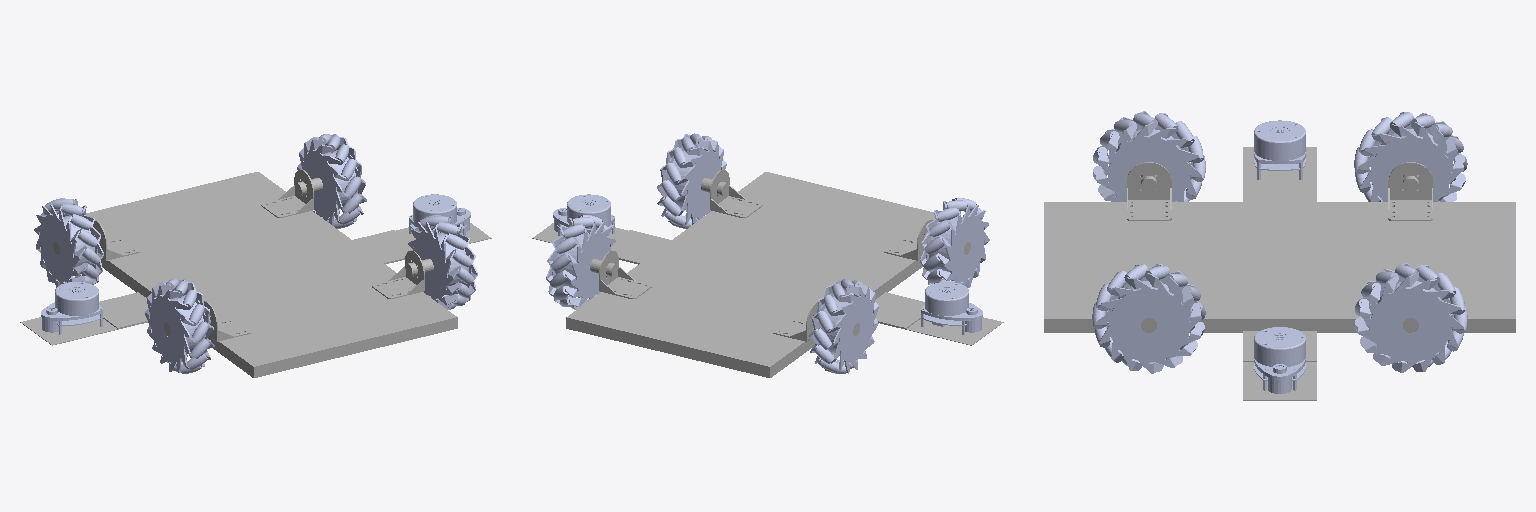
The robot description file, URDF, robot "vna":
<?xml version="1.0" encoding="utf-8"?>
<!-- This URDF was automatically created by SolidWorks to URDF Exporter! Originally created by [author] ([email redacted]) 
     Commit Version: 1.6.0-4-g7f85cfe  Build Version: 1.6.7995.38578
     For more information, please see http://wiki.ros.org/sw_urdf_exporter -->
<robot
  name="vna">

  <link name="base_footprint"/>

  <joint name="base_joint" type="fixed">
    <parent link="base_footprint"/>
    <child link="base_link" />
    <origin xyz="0 0 0.010" rpy="0 0 0"/>
  </joint>

  <link
    name="base_link">
    <inertial>
      <origin
        xyz="4.9577E-17 0.0010438 4.3796E-17"
        rpy="0 0 0" />
      <mass
        value="4.9512" />
      <inertia
        ixx="0.1553"
        ixy="3.8913E-19"
        ixz="3.6763E-16"
        iyy="0.21245"
        iyz="-1.0816E-15"
        izz="0.05751" />
    </inertial>
    <visual>
      <origin
        xyz="0 0 0"
        rpy="0 0 0" />
      <geometry>
        <mesh
          filename="package://vna/meshes/base_link.STL" />
      </geometry>
      <material
        name="">
        <color
          rgba="0.75294 0.75294 0.75294 1" />
      </material>
    </visual>
    <collision>
      <origin
        xyz="0 0 0"
        rpy="0 0 0" />
      <geometry>
        <mesh
          filename="package://vna/meshes/base_link.STL" />
      </geometry>
    </collision>
  </link>
  <link
    name="rb_Link">
    <inertial>
      <origin
        xyz="-0.175 -0.24004 0.03674"
        rpy="0 0 0" />
      <mass
        value="0.43359" />
      <inertia
        ixx="0.00027363"
        ixy="3.3606E-18"
        ixz="1.0019E-17"
        iyy="0.00046433"
        iyz="-7.3974E-17"
        izz="0.00027363" />
    </inertial>
    <visual>
      <origin
        xyz="0 0 0"
        rpy="0 0 0" />
      <geometry>
        <mesh
          filename="package://vna/meshes/rb_Link.STL" />
      </geometry>
      <material
        name="">
        <color
          rgba="0.79216 0.81961 0.93333 1" />
      </material>
    </visual>
    <collision>
      <origin
        xyz="0 0 0"
        rpy="0 0 0" />
      <geometry>
        <mesh
          filename="package://vna/meshes/rb_Link.STL" />
      </geometry>
    </collision>
  </link>
  <joint
    name="rb_Joint"
    type="revolute">
    <origin
      xyz="0 0 0"
      rpy="0 0 1.5708" />
    <parent
      link="base_link" />
    <child
      link="rb_Link" />
    <axis
      xyz="0 -1 0" />
    <limit
      lower="0"
      upper="0"
      effort="0"
      velocity="0" />
  </joint>
  <link
    name="lf_Link">
    <inertial>
      <origin
        xyz="0.175 0.24004 0.03674"
        rpy="0 0 0" />
      <mass
        value="0.43359" />
      <inertia
        ixx="0.00027363"
        ixy="-1.0438E-16"
        ixz="6.4552E-17"
        iyy="0.00046433"
        iyz="1.2921E-16"
        izz="0.00027363" />
    </inertial>
    <visual>
      <origin
        xyz="0 0 0"
        rpy="0 0 0" />
      <geometry>
        <mesh
          filename="package://vna/meshes/lf_Link.STL" />
      </geometry>
      <material
        name="">
        <color
          rgba="0.79216 0.81961 0.93333 1" />
      </material>
    </visual>
    <collision>
      <origin
        xyz="0 0 0"
        rpy="0 0 0" />
      <geometry>
        <mesh
          filename="package://vna/meshes/lf_Link.STL" />
      </geometry>
    </collision>
  </link>
  <joint
    name="lf_Joint"
    type="revolute">
    <origin
      xyz="0 0 0"
      rpy="0 0 1.5708" />
    <parent
      link="base_link" />
    <child
      link="lf_Link" />
    <axis
      xyz="0 1 0" />
    <limit
      lower="0"
      upper="0"
      effort="0"
      velocity="0" />
  </joint>
  <link
    name="rf_Link">
    <inertial>
      <origin
        xyz="0.175 -0.24004 0.03674"
        rpy="0 0 0" />
      <mass
        value="0.43359" />
      <inertia
        ixx="0.00027363"
        ixy="-9.7292E-17"
        ixz="5.4757E-17"
        iyy="0.00046432"
        iyz="7.5154E-17"
        izz="0.00027363" />
    </inertial>
    <visual>
      <origin
        xyz="0 0 0"
        rpy="0 0 0" />
      <geometry>
        <mesh
          filename="package://vna/meshes/rf_Link.STL" />
      </geometry>
      <material
        name="">
        <color
          rgba="0.79216 0.81961 0.93333 1" />
      </material>
    </visual>
    <collision>
      <origin
        xyz="0 0 0"
        rpy="0 0 0" />
      <geometry>
        <mesh
          filename="package://vna/meshes/rf_Link.STL" />
      </geometry>
    </collision>
  </link>
  <joint
    name="rf_Joint"
    type="revolute">
    <origin
      xyz="0 0 0"
      rpy="0 0 1.5708" />
    <parent
      link="base_link" />
    <child
      link="rf_Link" />
    <axis
      xyz="0 -1 0" />
    <limit
      lower="0"
      upper="0"
      effort="0"
      velocity="0" />
  </joint>
  <link
    name="lb_Link">
    <inertial>
      <origin
        xyz="-0.175 0.24004 0.03674"
        rpy="0 0 0" />
      <mass
        value="0.43359" />
      <inertia
        ixx="0.00027363"
        ixy="-1.2502E-16"
        ixz="6.786E-17"
        iyy="0.00046432"
        iyz="6.0454E-17"
        izz="0.00027363" />
    </inertial>
    <visual>
      <origin
        xyz="0 0 0"
        rpy="0 0 0" />
      <geometry>
        <mesh
          filename="package://vna/meshes/lb_Link.STL" />
      </geometry>
      <material
        name="">
        <color
          rgba="0.79216 0.81961 0.93333 1" />
      </material>
    </visual>
    <collision>
      <origin
        xyz="0 0 0"
        rpy="0 0 0" />
      <geometry>
        <mesh
          filename="package://vna/meshes/lb_Link.STL" />
      </geometry>
    </collision>
  </link>
  <joint
    name="lb_Joint"
    type="revolute">
    <origin
      xyz="0 0 0"
      rpy="0 0 1.5708" />
    <parent
      link="base_link" />
    <child
      link="lb_Link" />
    <axis
      xyz="0 1 0" />
    <limit
      lower="0"
      upper="0"
      effort="0"
      velocity="0" />
  </joint>
  <link
    name="lx_Link">
    <inertial>
      <origin
        xyz="-0.33352 -9.1926E-05  0.026268"
        rpy="0 0 0" />
      <mass
        value="1.3308" />
      <inertia
        ixx="0.0009607"
        ixy="8.0198E-07"
        ixz="-3.0916E-06"
        iyy="0.00061492"
        iyz="-0.00015824"
        izz="0.0010982" />
    </inertial>
    <visual>
      <origin
        xyz="0 0 0"
        rpy="0 0 0" />
      <geometry>
        <mesh
          filename="package://vna/meshes/lx_Link.STL" />
      </geometry>
      <material
        name="">
        <color
          rgba="0.79216 0.81961 0.93333 1" />
      </material>
    </visual>
    <collision>
      <origin
        xyz="0 0 0"
        rpy="0 0 0" />
      <geometry>
        <mesh
          filename="package://vna/meshes/lx_Link.STL" />
      </geometry>
    </collision>
  </link>
  <joint
    name="lx_Joint"
    type="fixed">
    <origin
      xyz="0 0 0"
      rpy="0 0 1.5708" />
    <parent
      link="base_link" />
    <child
      link="lx_Link" />
    <axis
      xyz="0 0 0" />
  </joint>
  <!-- <gazebo reference="base_link">
    <sensor type="ray" name="head_hokuyo_sensor">
      <pose> -0.33352 0 0.026268 0 0 0</pose>
      <visualize>false</visualize>
      <update_rate>40</update_rate>
      <ray>
        <scan>
          <horizontal>
            <samples>720</samples>
            <resolution>1</resolution>
            <min_angle>-1.5708</min_angle>
            <max_angle>1.5708</max_angle>
          </horizontal>
        </scan>
        <range>
          <min>0.10</min>
          <max>30.0</max>
          <resolution>0.01</resolution>
        </range>
        <noise>
          <type>gaussian</type> -->
          <!-- Noise parameters based on published spec for Hokuyo laser
               achieving "+-30mm" accuracy at range < 10m.  A mean of 0.0m and
               stddev of 0.01m will put 99.7% of samples within 0.03m of the true
               reading. -->
          <!-- <mean>0.0</mean>
          <stddev>0.01</stddev>
        </noise>
      </ray>
      <plugin name="gazebo_ros_head_hokuyo_controller" filename="libgazebo_ros_laser.so">
        <topicName>/vna/laser/scan</topicName>
        <frameName>base_link</frameName>
      </plugin>
    </sensor>
  </gazebo> -->
  <link
    name="ly_Link">
    <inertial>
      <origin
        xyz="9.1926E-05 0.33352 0.026268"
        rpy="0 0 0" />
      <mass
        value="1.3308" />
      <inertia
        ixx="0.0009607"
        ixy="8.0198E-07"
        ixz="3.0916E-06"
        iyy="0.00061492"
        iyz="0.00015824"
        izz="0.0010982" />
    </inertial>
    <visual>
      <origin
        xyz="0 0 0"
        rpy="0 0 0" />
      <geometry>
        <mesh
          filename="package://vna/meshes/ly_Link.STL" />
      </geometry>
      <material
        name="">
        <color
          rgba="0.79216 0.81961 0.93333 1" />
      </material>
    </visual>
    <collision>
      <origin
        xyz="0 0 0"
        rpy="0 0 0" />
      <geometry>
        <mesh
          filename="package://vna/meshes/ly_Link.STL" />
      </geometry>
    </collision>
  </link>
  <joint
    name="ly_Joint"
    type="fixed">
    <origin
      xyz="0 0 0"
      rpy="0 0 1.5708" />
    <parent
      link="base_link" />
    <child
      link="ly_Link" />
    <axis
      xyz="0 0 0" />
  </joint>
  <gazebo reference="base_footprint">
    <sensor type="ray" name="head_hokuyo_sensor">
      <pose>0.33352 0 0.026268 0 0</pose>
      <visualize>true</visualize>
      <update_rate>40</update_rate>
      <ray>
        <scan>
          <horizontal>
            <samples>720</samples>
            <resolution>1</resolution>
            <min_angle>-1.5708</min_angle>
            <max_angle>1.5708</max_angle>
          </horizontal>
        </scan>
        <range>
          <min>0.10</min>
          <max>30.0</max>
          <resolution>0.01</resolution>
        </range>
        <noise>
          <type>gaussian</type>
          <!-- Noise parameters based on published spec for Hokuyo laser
               achieving "+-30mm" accuracy at range < 10m.  A mean of 0.0m and
               stddev of 0.01m will put 99.7% of samples within 0.03m of the true
               reading. -->
          <mean>0.0</mean>
          <stddev>0.01</stddev>
        </noise>
      </ray>
      <plugin name="gazebo_ros_head_hokuyo_controller" filename="libgazebo_ros_laser.so">
        <topicName>scan</topicName>
        <frameName>base_link</frameName>
      </plugin>
    </sensor>
  </gazebo>

  <gazebo reference="base_link">
    <gravity>true</gravity>
    <sensor name="imu_sensor" type="imu">
      <always_on>true</always_on>
      <update_rate>100</update_rate>
      <visualize>true</visualize>
      <topic>__default_topic__</topic>
      <plugin filename="libgazebo_ros_imu_sensor.so" name="imu_plugin">
        <topicName>imu</topicName>
        <bodyName>imu_link</bodyName>
        <updateRateHZ>10.0</updateRateHZ>
        <gaussianNoise>0.0</gaussianNoise>
        <xyzOffset>0 0 0</xyzOffset>
        <rpyOffset>0 0 0</rpyOffset>
        <frameName>base_link</frameName>
        <initialOrientationAsReference>true</initialOrientationAsReference>
      </plugin>
      <pose>0 0 0 0 0 0</pose>
    </sensor>
  </gazebo>

  <gazebo>
    <plugin name="imu_plugin" filename="libgazebo_ros_imu.so">
      <alwaysOn>true</alwaysOn>
      <bodyName>base_footprint</bodyName>
      <topicName>imu</topicName>
      <serviceName>imu_service</serviceName>
      <gaussianNoise>0.0</gaussianNoise>
      <updateRate>20.0</updateRate>
    </plugin>
  </gazebo>

  <!-- <gazebo>
      <plugin name="gazebo_mecanum_pid_plugin" filename="libgazebo_ros_mecanum_pid_drive.so">
        <commandTopic>cmd_vel</commandTopic>
        <odometryTopic>odom</odometryTopic>
        <odometryFrame>odom</odometryFrame>
        <robotBaseFrame>base_footprint</robotBaseFrame>
        <LeftRear>lf_Joint</LeftRear>
        <LeftFront>lb_Joint</LeftFront>
        <RightFront>rf_Joint</RightFront>
        <RightRear>rb_Joint</RightRear>
        <odometryRate>20</odometryRate>      
        <publishWheelTF>true</publishWheelTF>
        <publishWheelJointState>true</publishWheelJointState>
        <WheelTorque>30</WheelTorque>
        <WheelSeparationW>0.48</WheelSeparationW>
        <WheelSeparationL>0.35</WheelSeparationL>
        <wheelAccel>5</wheelAccel>
        <wheelDiameter>0.152</wheelDiameter>
        <publishOdom>false</publishOdom>
        <isRollerModel>true</isRollerModel>
        <dt>0.05</dt>
        <WheelInputVelTopic>zm_input_vel</WheelInputVelTopic>
        <WheelOutputVelTopic>zm_output_vel</WheelOutputVelTopic>
        <WheelPID>gazebo_mecanum_plugins_PID</WheelPID>
      </plugin>
  </gazebo> -->

  <gazebo>
    <plugin name="object_controller" filename="libgazebo_ros_planar_move.so">
      <commandTopic>cmd_vel</commandTopic>
      <odometryTopic>odom</odometryTopic>
      <odometryFrame>odom</odometryFrame>
      <odometryRate>20.0</odometryRate>
      <robotBaseFrame>base_footprint</robotBaseFrame>
    </plugin>
  </gazebo>
</robot>

--- What the picture shows (computed from the rendered views, not written in the file) ---
3 views of the same robot in one strip: view 1: azimuth 30°, elevation 25°; view 2: azimuth 150°, elevation 25°; view 3: azimuth 270°, elevation 25° (orthographic).
Model vna with 8 links and 7 joints (4 revolute, 3 fixed), rooted at base_footprint, posed all joints at 0.
Links seen in each view (by area): view 1: base_link, lb_Link, lf_Link, rf_Link, rb_Link, ly_Link, lx_Link; view 2: base_link, lf_Link, lb_Link, rb_Link, rf_Link, ly_Link, lx_Link; view 3: base_link, rb_Link, rf_Link, lb_Link, lf_Link, lx_Link, ly_Link.
Link boxes in pixels (x1,y1,x2,y2): base_link: (20,169,491,377); lb_Link: (145,279,214,373); lf_Link: (34,198,103,287); rf_Link: (297,134,366,228); rb_Link: (408,215,477,309); ly_Link: (41,282,102,334); lx_Link: (409,194,470,235); base_link: (532,169,1003,377); lf_Link: (809,279,878,373); lb_Link: (920,198,989,287); rb_Link: (657,133,726,228); rf_Link: (546,215,615,309); ly_Link: (921,282,982,334); lx_Link: (553,194,614,235); base_link: (1044,147,1515,400); rb_Link: (1092,264,1205,373); rf_Link: (1354,263,1467,372); lb_Link: (1093,111,1205,201); lf_Link: (1354,112,1467,201); lx_Link: (1254,327,1305,393); ly_Link: (1254,120,1305,179).
Bounding box of the posed robot: 0.802 × 0.63 × 0.1518 m (x, y, z).
Meshes: 7 distinct files referenced, 7 mesh visuals loaded (7 binary STL).
